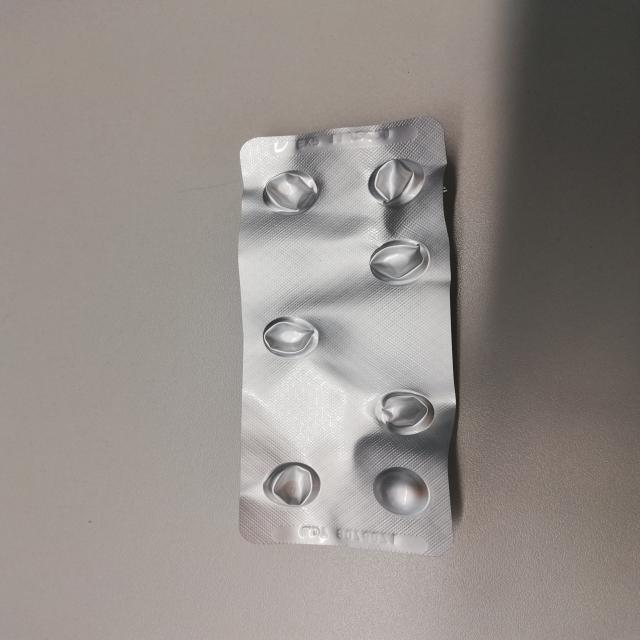Empty: (368, 384, 442, 441), (361, 153, 431, 211), (364, 237, 438, 289), (255, 167, 324, 220), (255, 311, 328, 361), (263, 458, 324, 511)
Pill: (368, 463, 432, 518)
